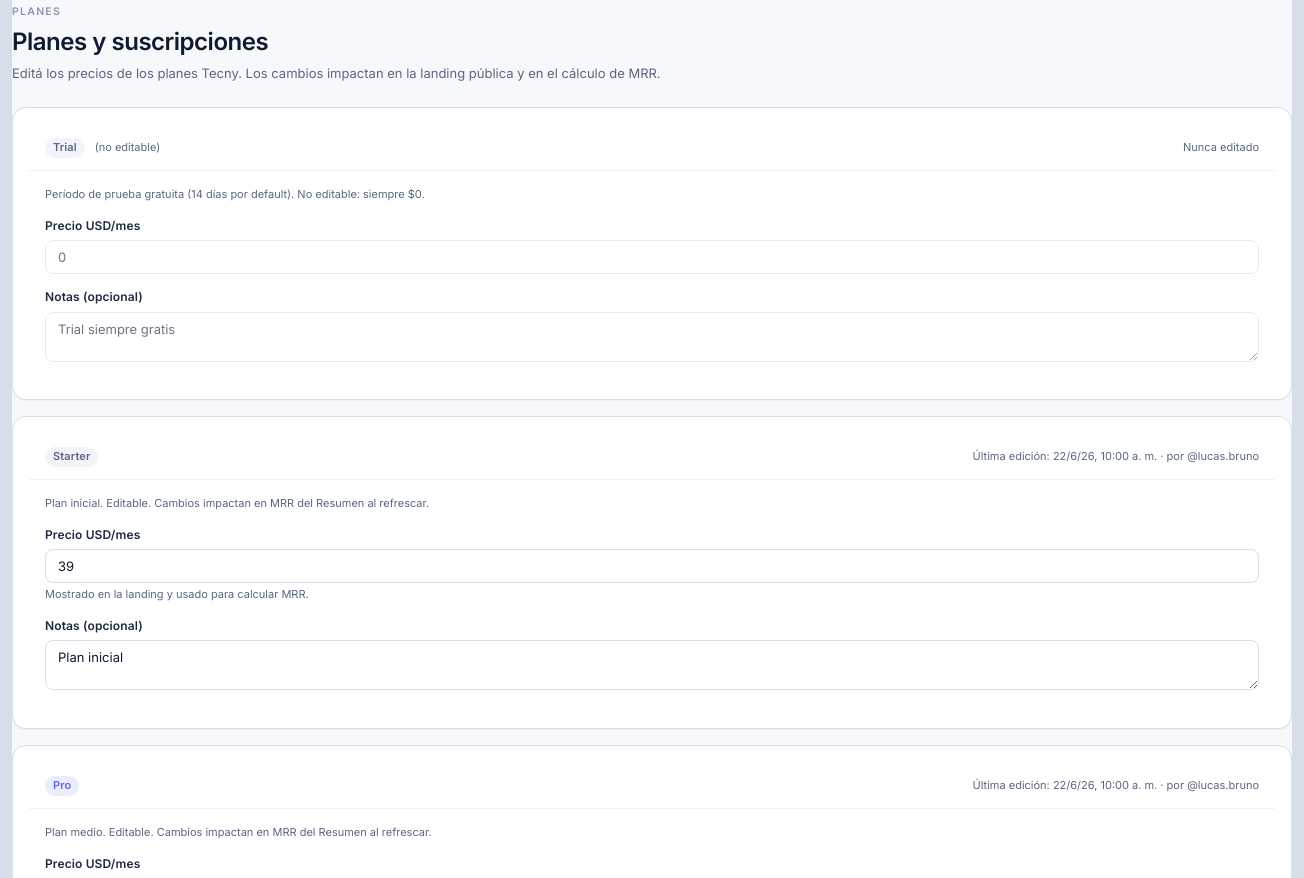
Test: Planes › validar cliente: precio negativo NO abre modal
Replace the text in the number field named "Precio del plan starter" with "-10": {"x": 652, "y": 566} [45,549,1259,583]
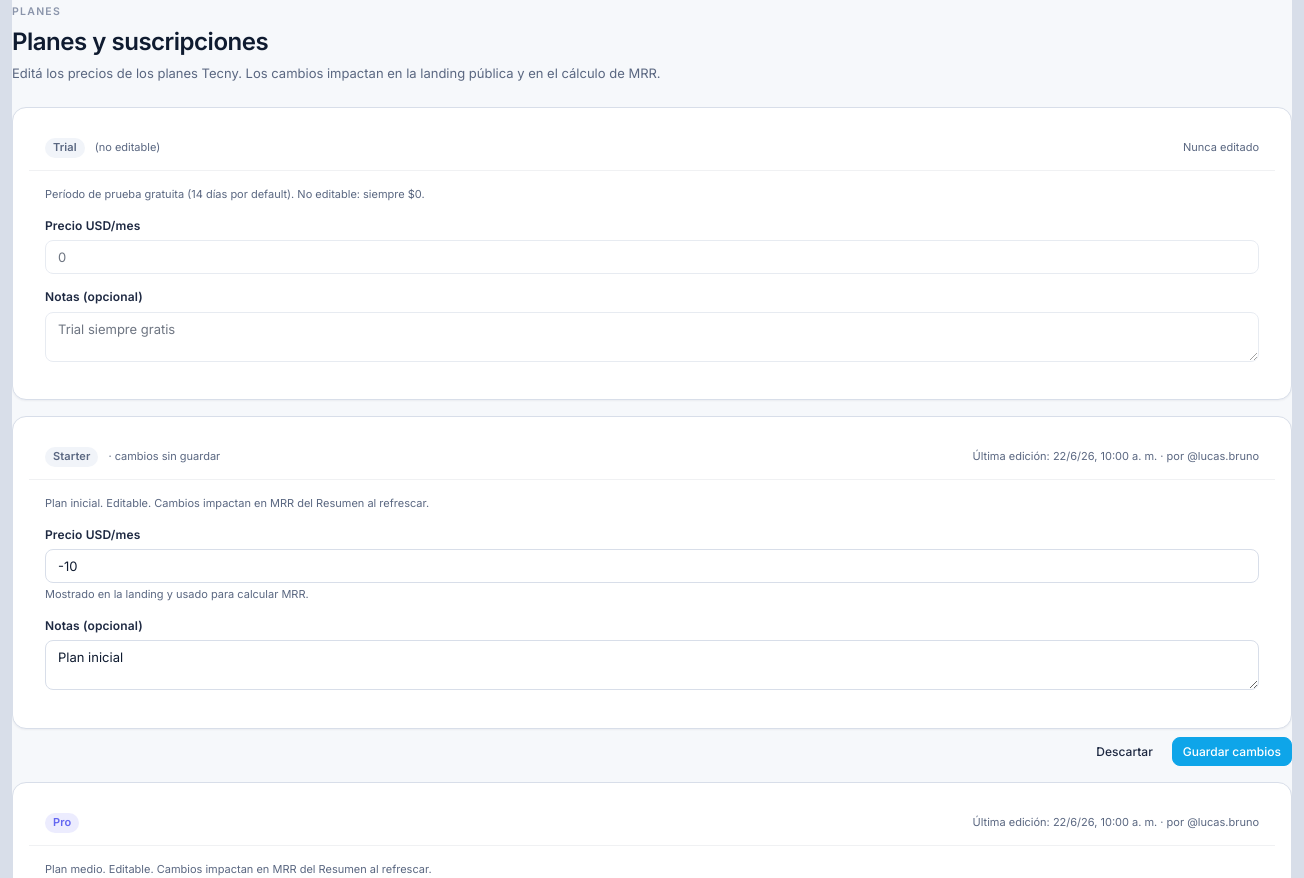
Click the button "Guardar cambios": {"x": 1232, "y": 751} [1172,737,1292,766]
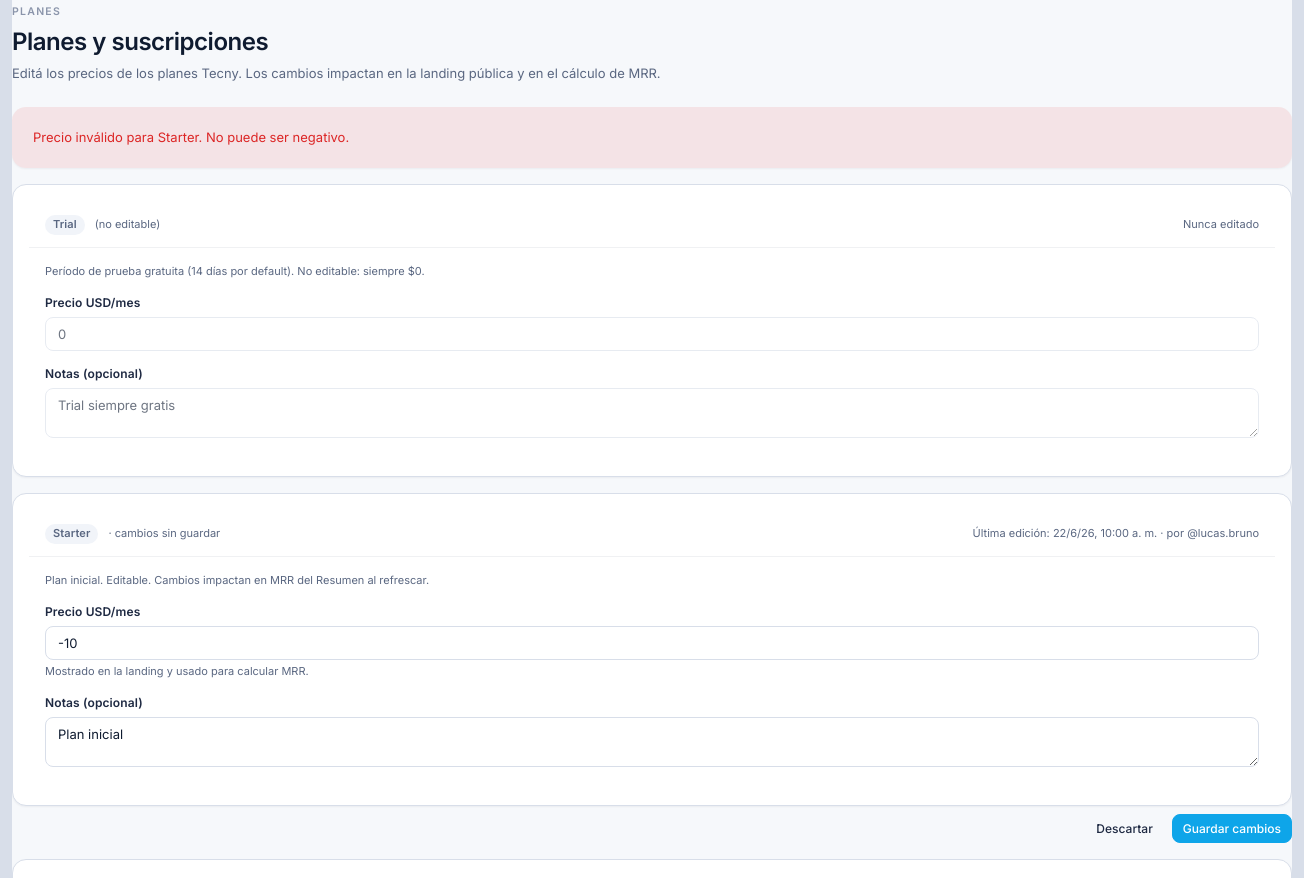
Result: the text "Precio inválido para Starter. No puede ser negativo." is shown at [12,107,1292,168]
